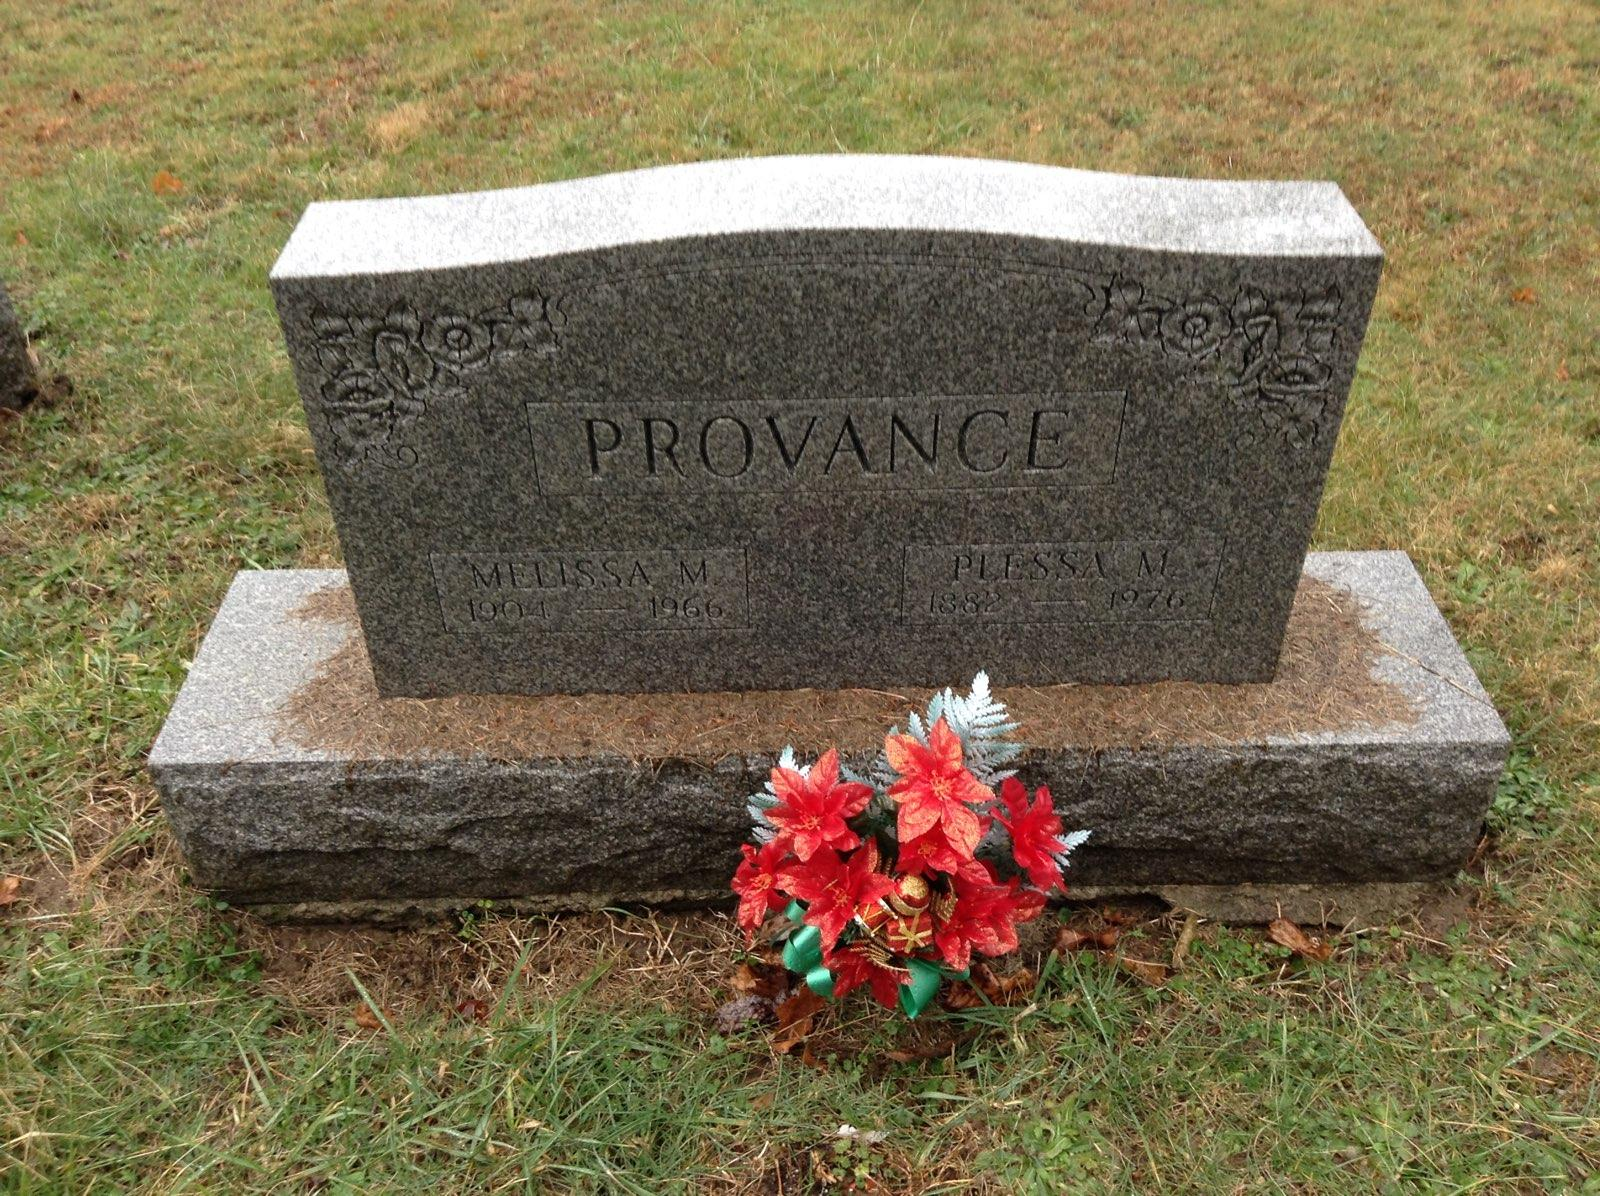upright: (134, 151, 1520, 923)
